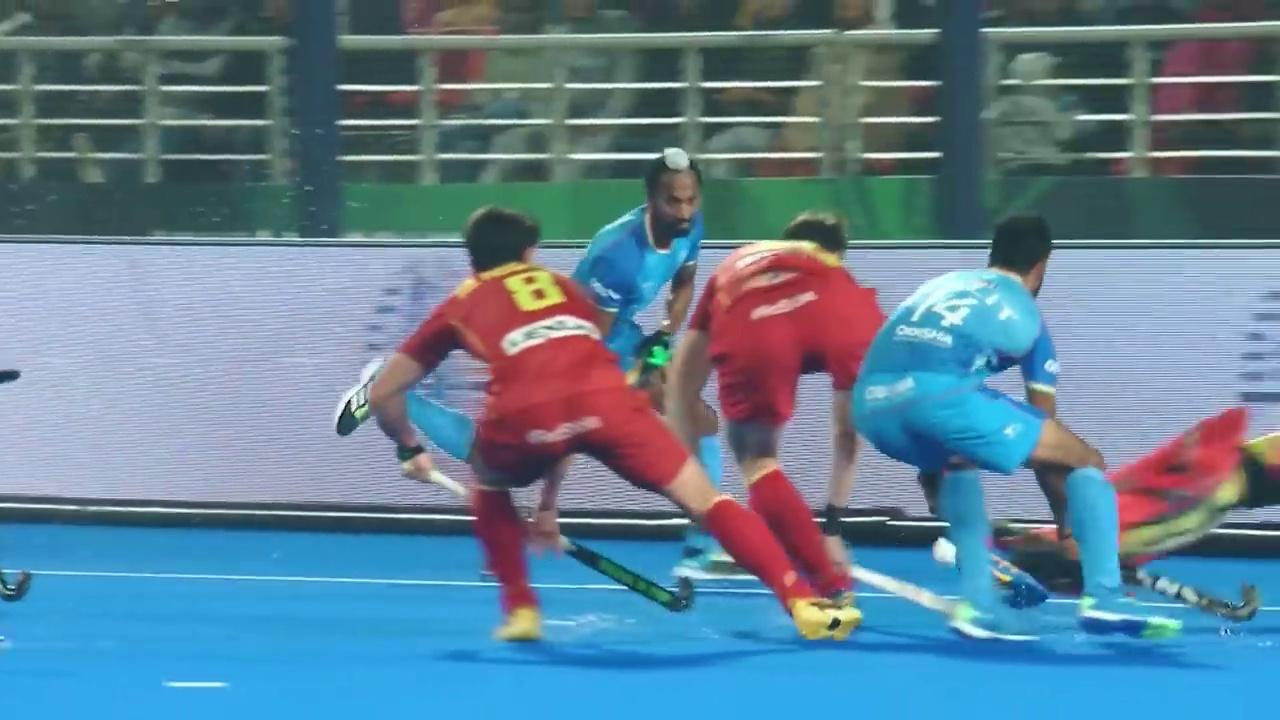ball: (930, 521, 967, 568)
